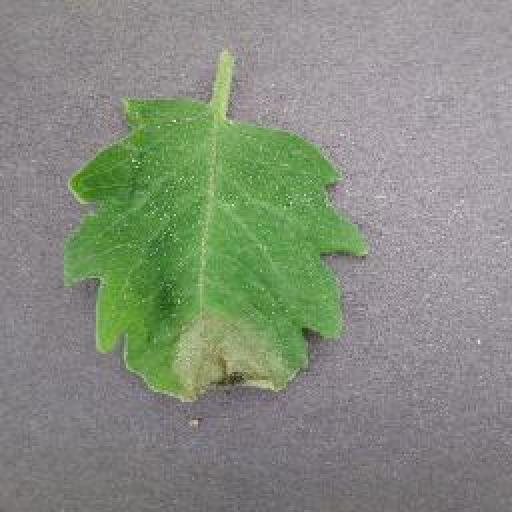disease_tomato: (66, 94, 368, 404)
